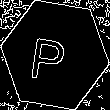P_N: (34, 27, 76, 83)
